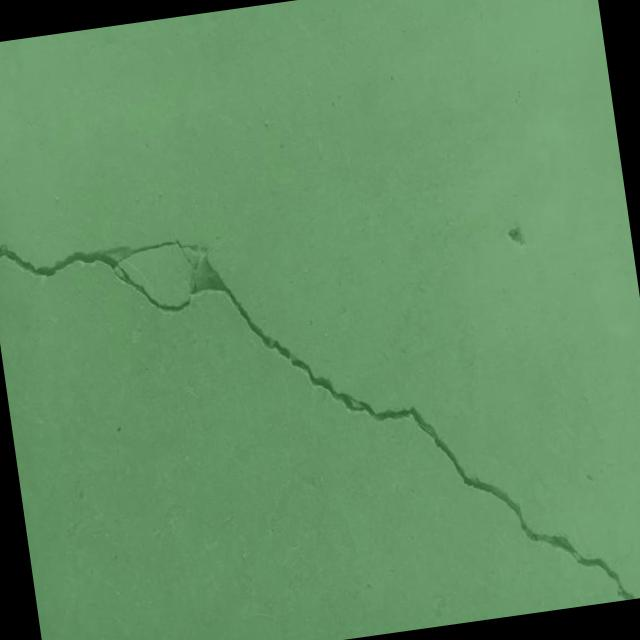crack: (0, 163, 635, 640)
